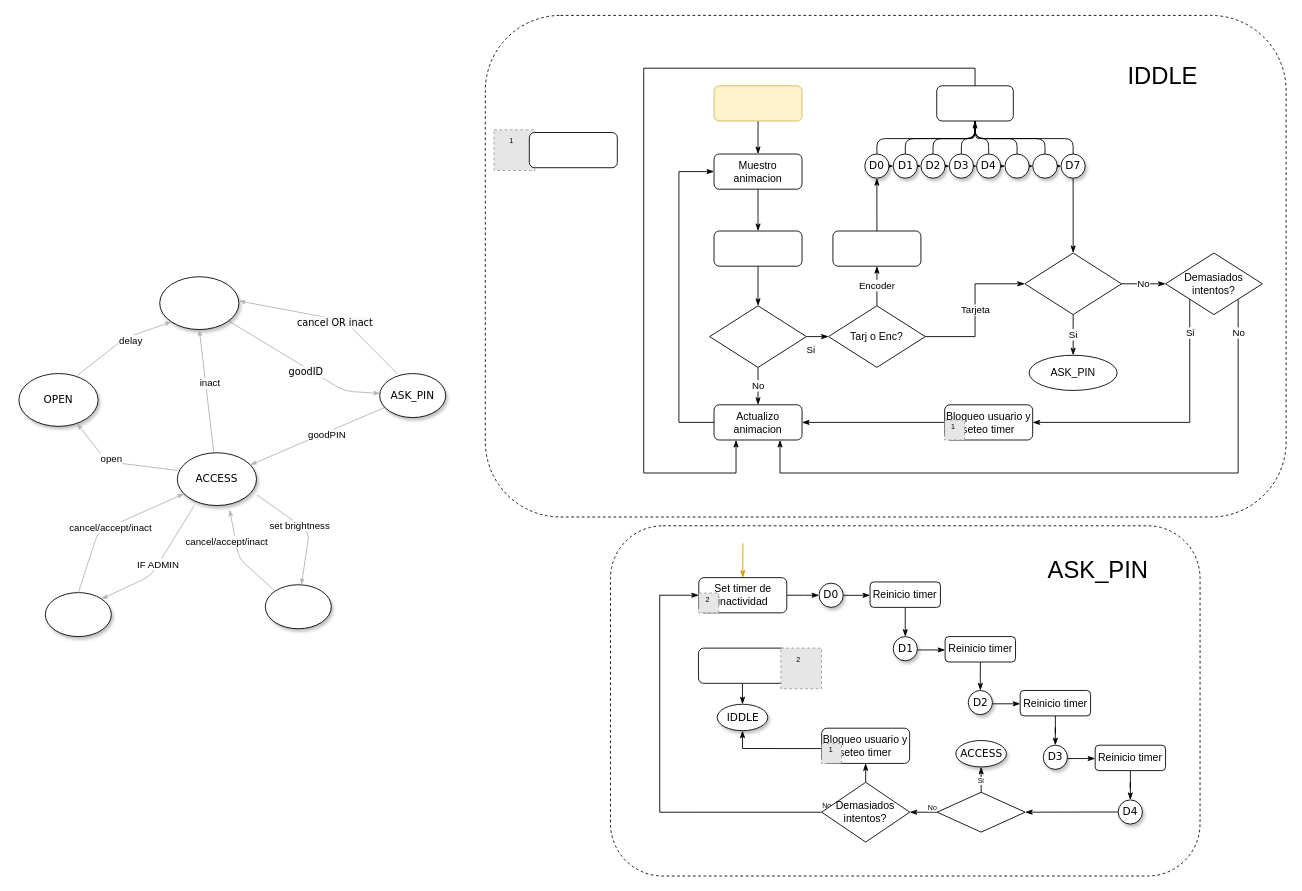
Image size: 1302x891. Some labels were removed from this diagram. Grey dashed boxes stand in for pictures. Here are the shapes that lost their labels. From the top down, the centre of each, then its label:
pixel 757 103: Inicio
pixel 974 103: Cancelar
pixel 572 150: Desbloqueo usuario
pixel 1017 167: D5
pixel 1045 167: D6
pixel 757 248: Polleo encoder y lector
pixel 876 248: Muestro digito a ingresar
pixel 1073 283: ID Correcto?
pixel 199 304: IDDLE i
pixel 757 336: Evento nuevo?
pixel 79 615: SET_USER
pixel 299 607: SET_BRGHT
pixel 742 665: Expiró el timer de inactividad
pixel 980 811: PIN correcto?
